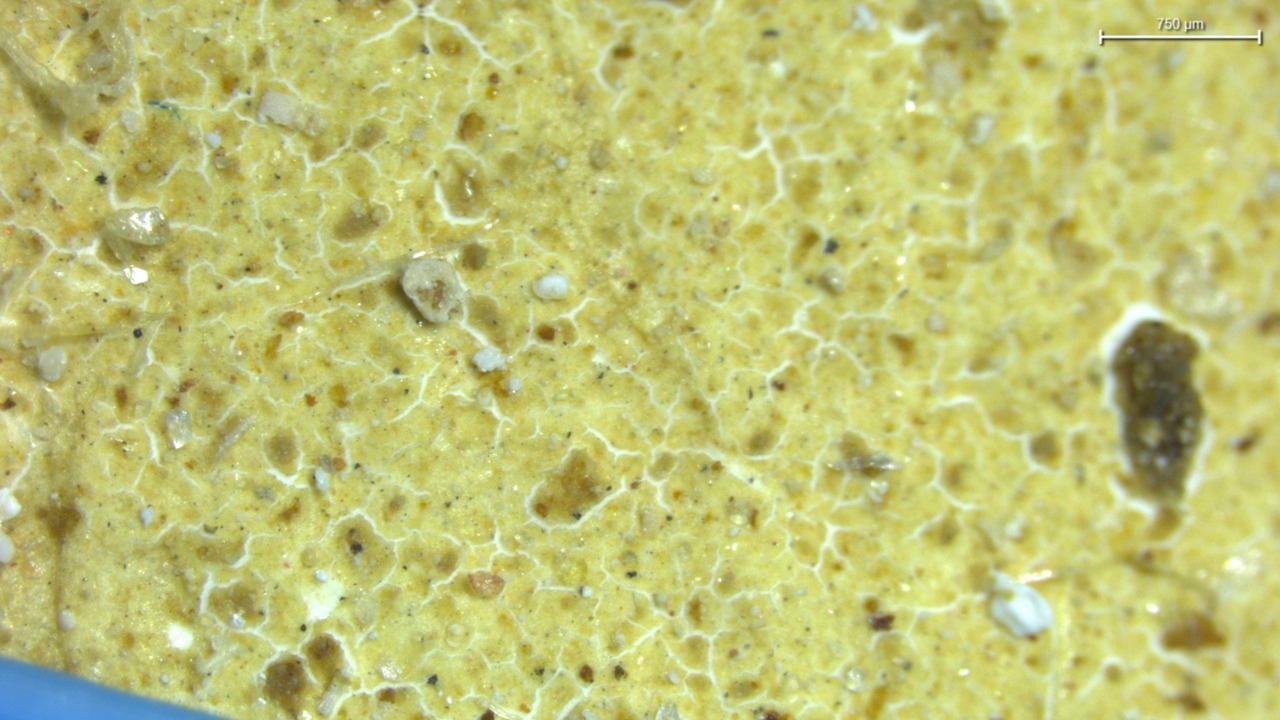microplastic_fragment: (401, 257, 465, 323), (101, 207, 170, 263), (532, 273, 568, 300)
